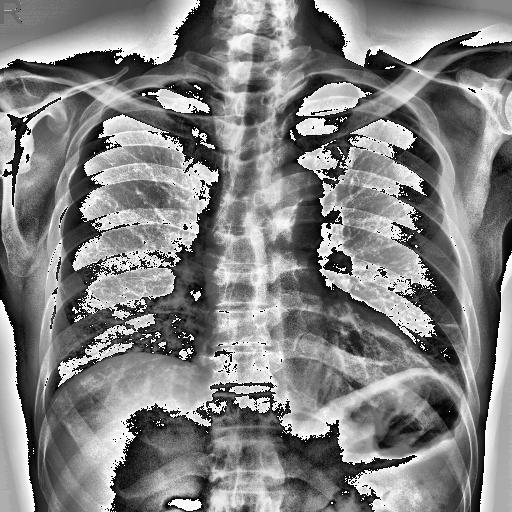1- Atelectasis: (285, 271, 503, 441)
13- Pulmonary fibrosis: (414, 332, 472, 384)
9- Other lesion: (285, 271, 503, 441), (404, 302, 472, 388)
